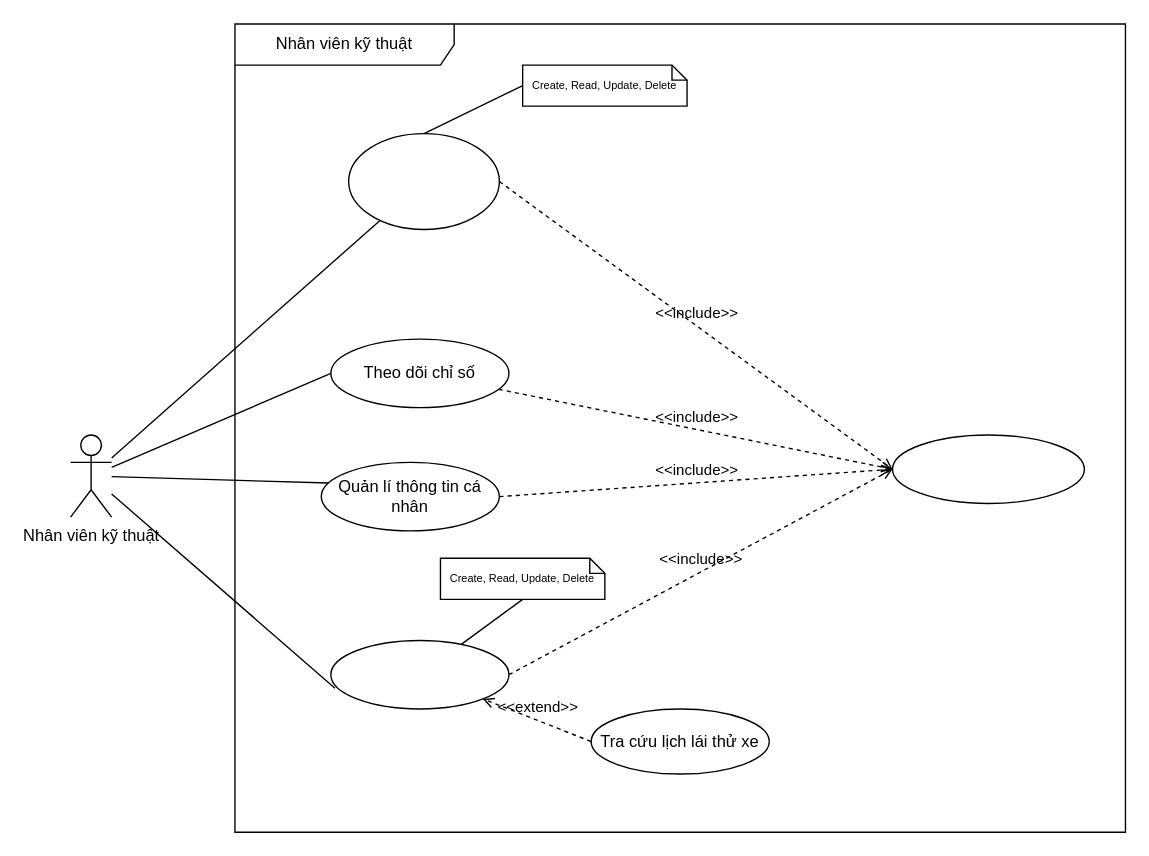
Some shapes in this 1149 by 856 pixel diagram are drawn without their labels. The centre of each missing label's shape, as x and y in pixels:
"Quản lý lịch hẹn sửa chữa, bảo trì" goes at point (423, 180).
"Quản lý lịch lái thử xe" goes at point (419, 674).
"Đăng nhập" goes at point (987, 468).
